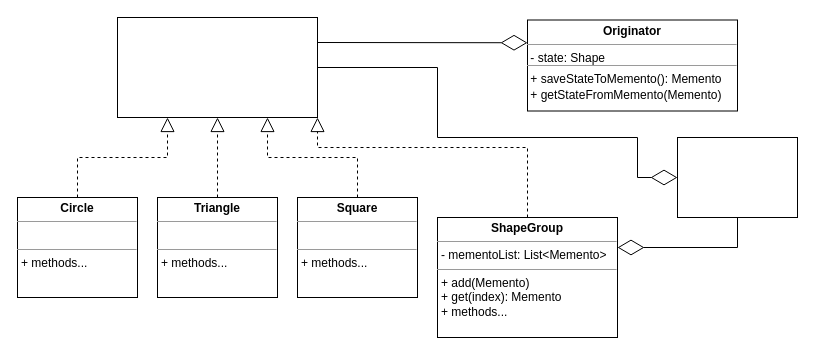
Image size: 815x355. Some labels were removed from this diagram. The shapes that lost their labels are listed below. From the top down, each one's centre as x and y in pixels, then its label:
At point 217,67: "<<Inteface>> Shape + setColor(Color): Color + setBorder(Border): Border + draw()".
At point 737,177: "Memento - state: Shape + getState(): Shape".
